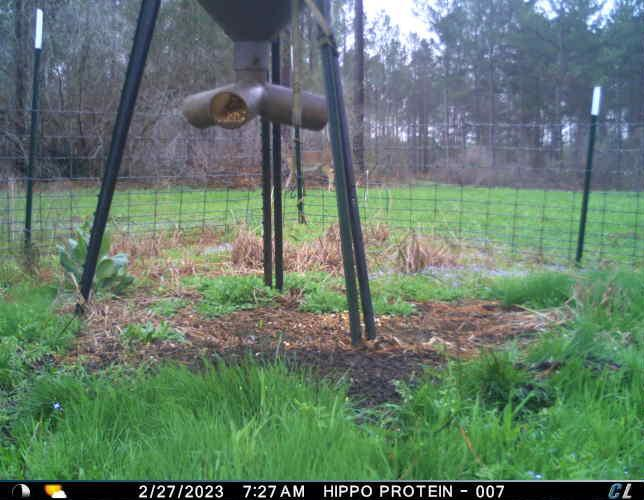Deer: (280, 136, 337, 191)
